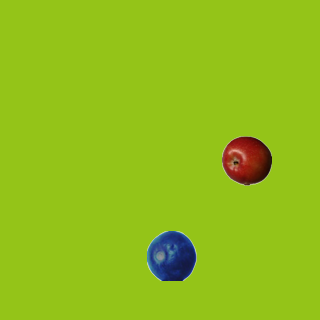Apple Braeburn: (221, 135, 271, 185)
Huckleberry: (146, 230, 196, 280)
